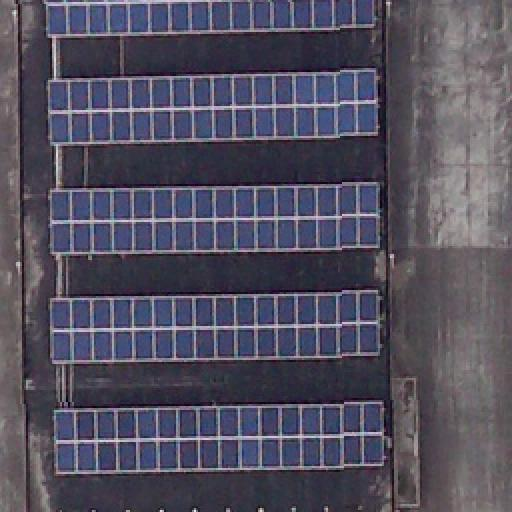solar-panel: (46, 70, 378, 146), (51, 399, 381, 473), (52, 290, 380, 362), (52, 184, 380, 256), (44, 0, 372, 36)
